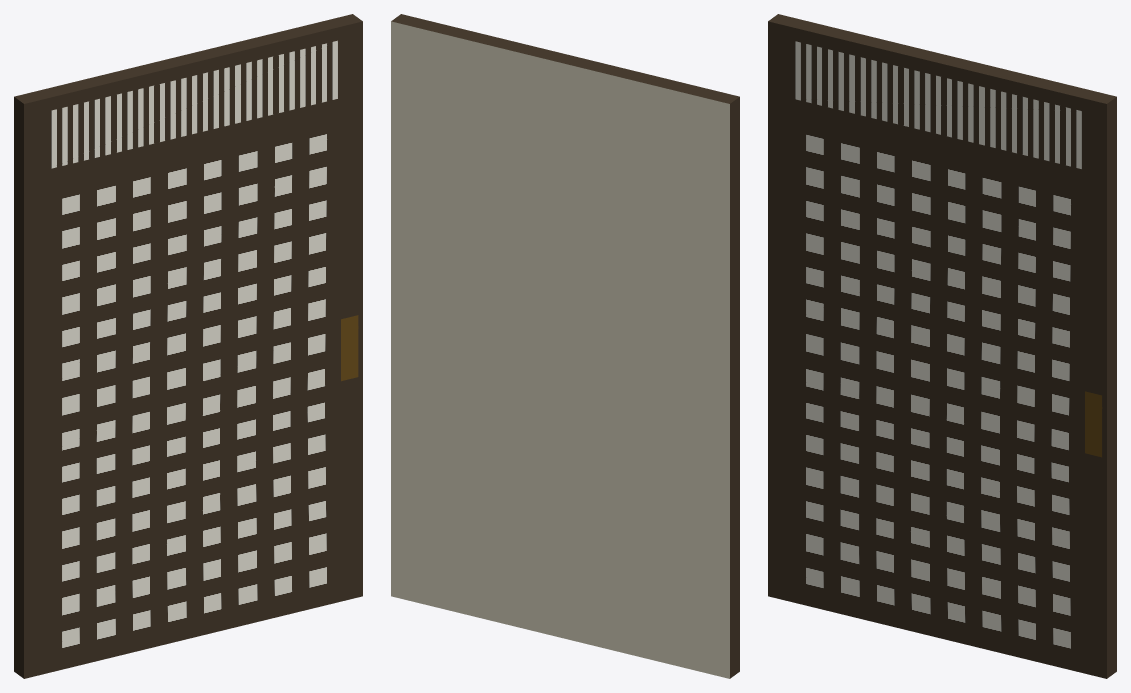
The model's file is outsideDoor.fbx.
The picture shows the model from 3 angles, left to right: view 1: azimuth 30°, elevation 25°; view 2: azimuth 150°, elevation 25°; view 3: azimuth 330°, elevation 25°; orthographic projection.
Visible parts, largest first — view 1: Cube; view 2: Cube; view 3: Cube.
Part boxes in pixels (x1=…): Cube: x1=14, y1=14, x2=362, y2=678; Cube: x1=391, y1=14, x2=739, y2=678; Cube: x1=768, y1=14, x2=1116, y2=678.
Size of the model in its own units: 91.59 by 149 by 4.73.
